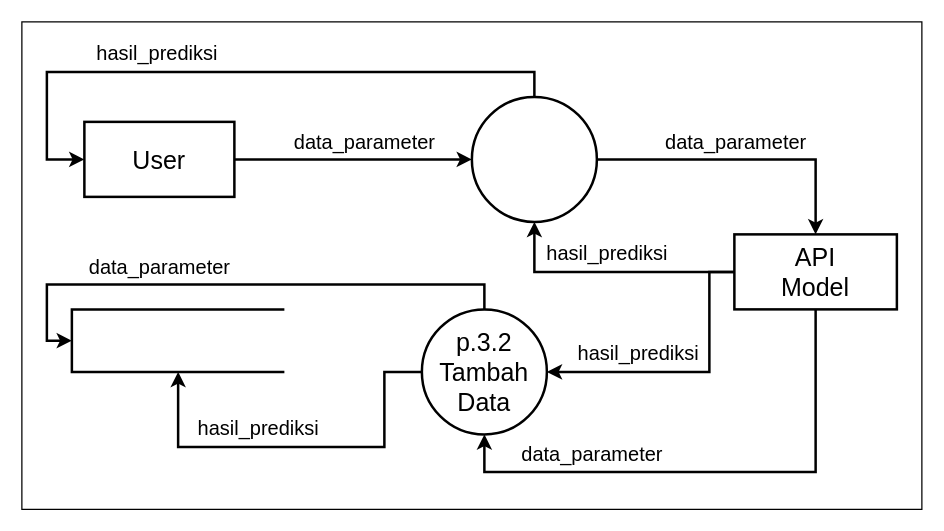
This 944x531 diagram has some shape labels left out. The shapes that lost their labels are listed below. From the top down, each one's centre as x and y in pixels, then its label:
At point 534,158: "p.3.1 Prediksi".
At point 177,340: "data_baru".
